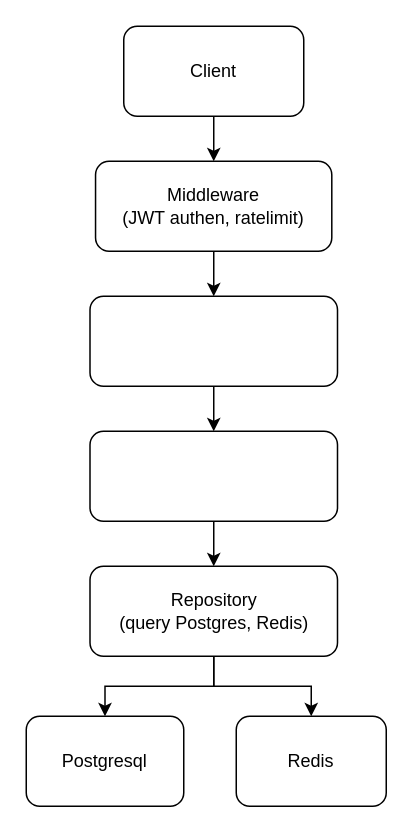
Image size: 413x833. Some labels were removed from this diagram. Here are the shapes that lost their labels. From the top down, the centre of each, then its label:
point (213, 340): Handler (router, bind request/response)
point (213, 475): Service (businees logic, transaction, cache)
